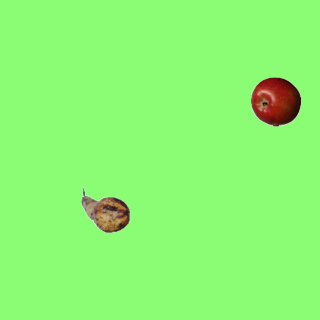Apple Braeburn: (250, 76, 300, 126)
Pear Abate: (80, 185, 130, 235)
